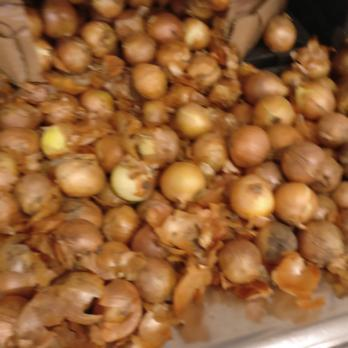Onion: (1, 1, 212, 348), (216, 68, 348, 291), (218, 0, 303, 53)
